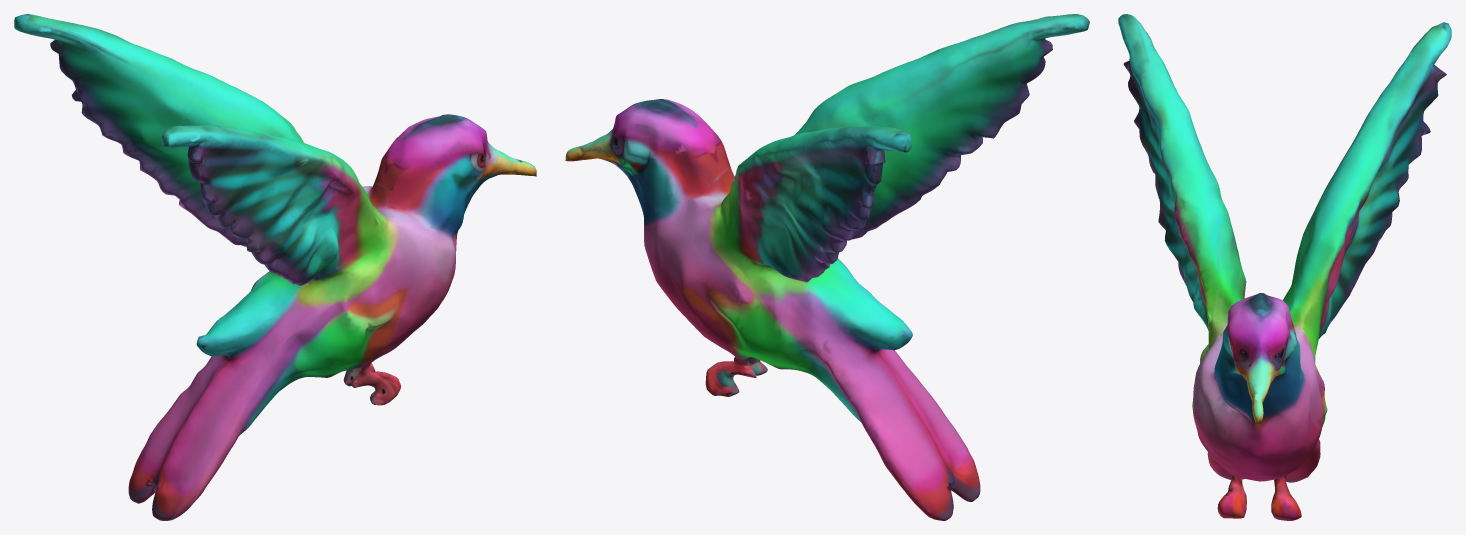
File: Ruby_Bird_0616060007.fbx
The picture shows the model from 3 angles, left to right: view 1: azimuth 30°, elevation 25°; view 2: azimuth 150°, elevation 25°; view 3: azimuth 270°, elevation 25°; orthographic projection. The views are drawn at different scales.
Parts seen in each view (by area): view 1: Mesh_0; view 2: Mesh_0; view 3: Mesh_0.
Boxes of the visible parts, left/top/right/bottom form: Mesh_0: left=14, top=14, right=536, bottom=520; Mesh_0: left=565, top=14, right=1089, bottom=520; Mesh_0: left=1118, top=14, right=1451, bottom=520.
Bounding box in the file's own units: 120 × 116 × 78.81.
Materials: 1 (1 with a texture image).
